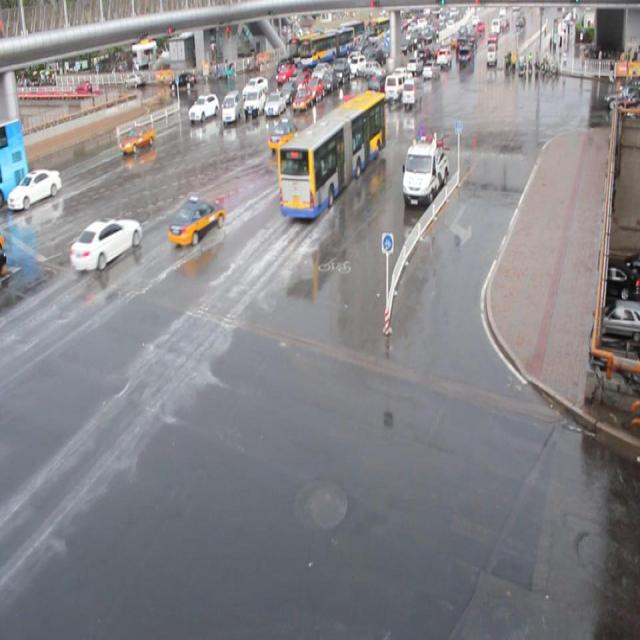bus: (402, 138, 449, 206)
car: (69, 216, 141, 271), (168, 195, 225, 245), (11, 168, 62, 212), (267, 117, 304, 151), (287, 131, 320, 168), (119, 122, 155, 154), (317, 107, 346, 141), (336, 92, 362, 126), (188, 94, 219, 122), (367, 70, 391, 98), (291, 88, 313, 114), (242, 76, 268, 98), (265, 92, 286, 118), (305, 77, 324, 102), (279, 80, 298, 104), (292, 72, 310, 94)
truck: (383, 73, 408, 102), (221, 90, 242, 123), (246, 85, 268, 116), (401, 78, 422, 109)
van: (276, 90, 385, 218), (1, 118, 30, 208)
